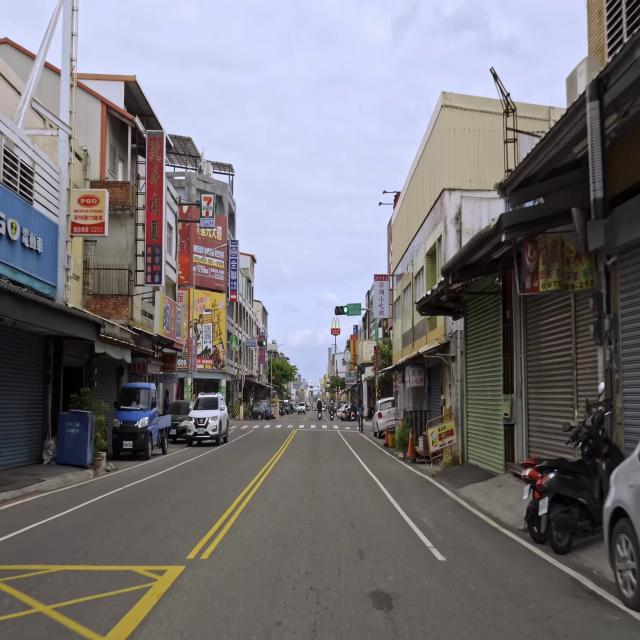green light: (334, 306, 348, 315), (257, 341, 266, 346)
